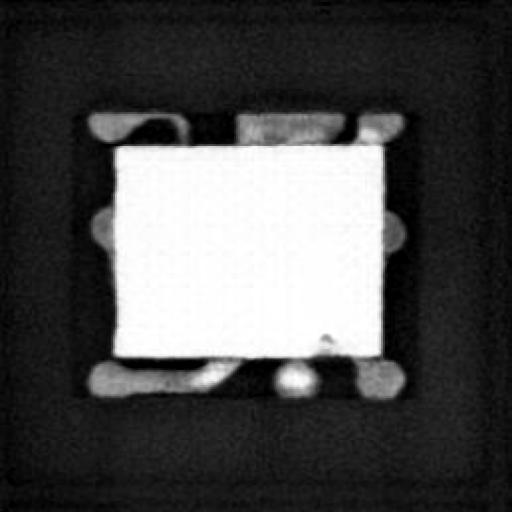DIE_INK: (312, 328, 336, 341)
